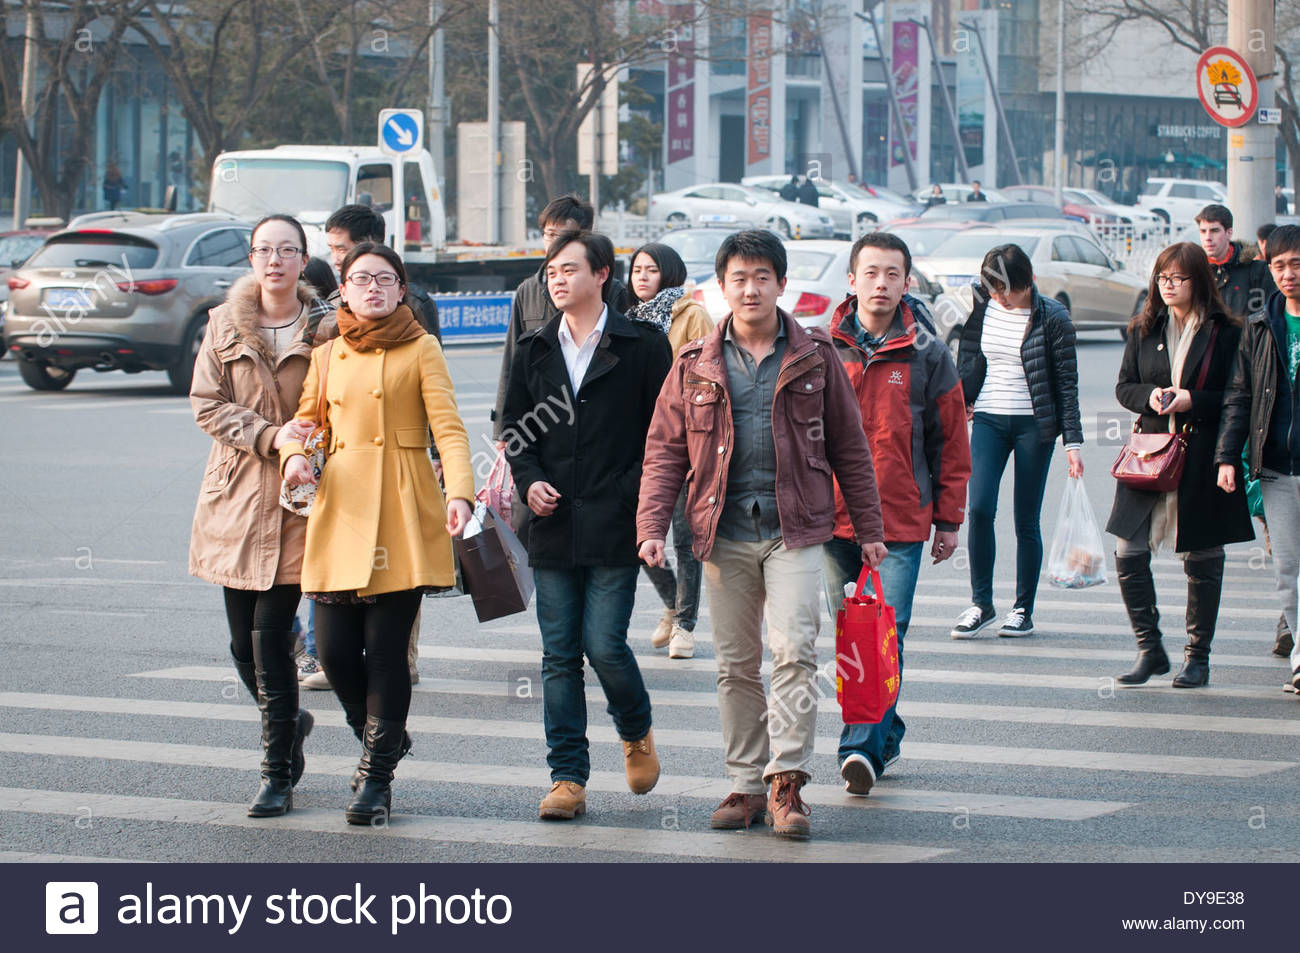pedestrian: (628, 227, 869, 849), (473, 228, 680, 823), (280, 243, 463, 836), (165, 208, 335, 826), (1099, 234, 1255, 699), (936, 235, 1092, 642)
